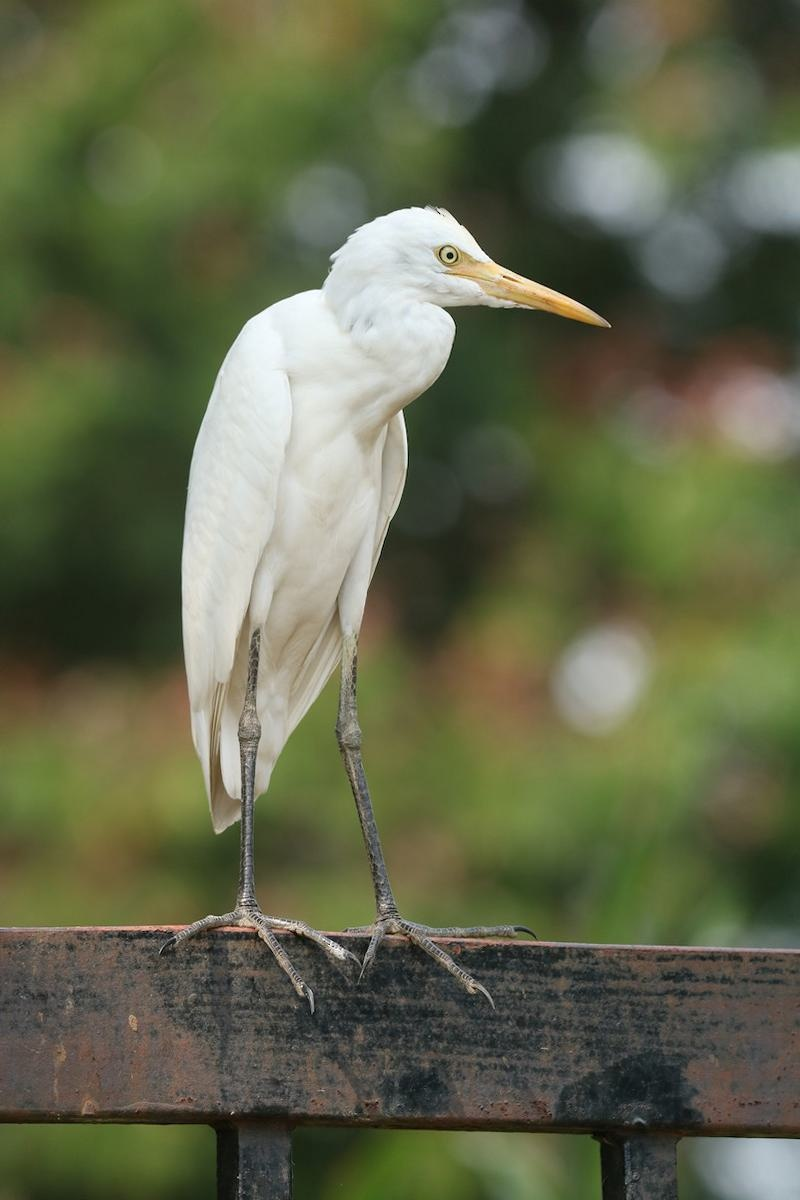egret: (179, 197, 625, 958)
